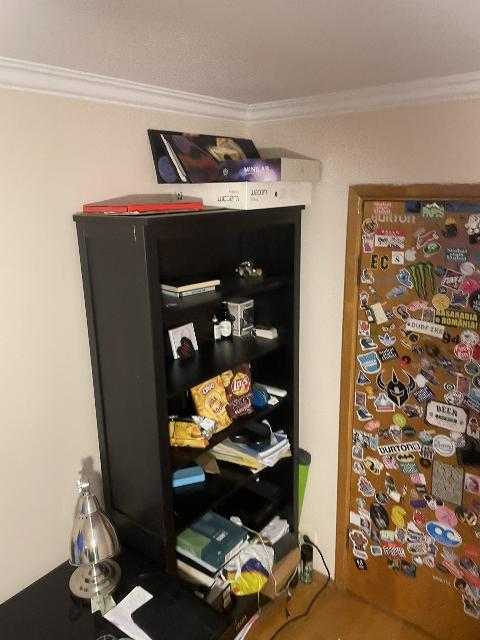Chio Cascaval 125g: (169, 412, 217, 448)
Chio Hula Hoops Cheese 70g: (190, 373, 234, 433)
Lays Beef Grilled Ribs 125g: (221, 364, 256, 421)
